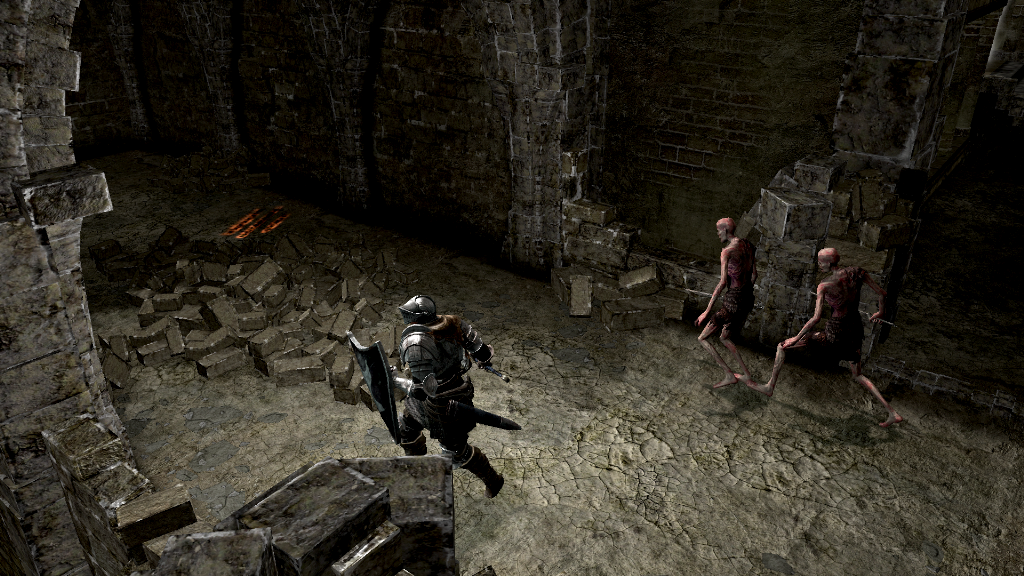hollow: (749, 247, 906, 428), (695, 216, 758, 391)
player: (345, 294, 505, 499)
